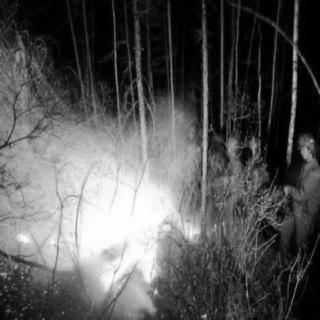Fire: (26, 165, 196, 297)
